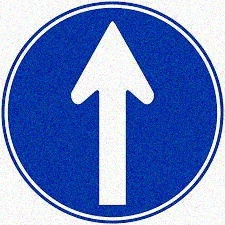Direction_sign: (1, 1, 225, 223)
